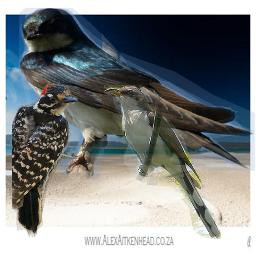Cuckoo: (104, 85, 221, 239)
Swallow: (19, 8, 255, 179)
Woodpecker: (12, 82, 78, 237)
